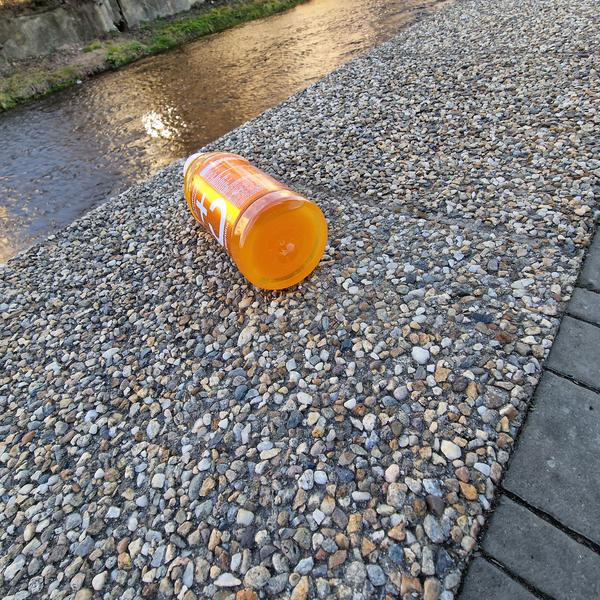plastic_bottle: (156, 116, 350, 308)
